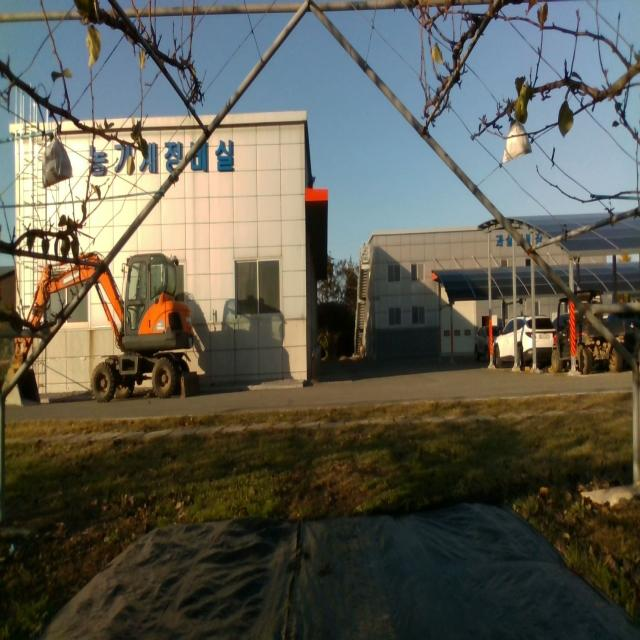pearbags: (41, 128, 74, 186), (501, 122, 532, 166)
